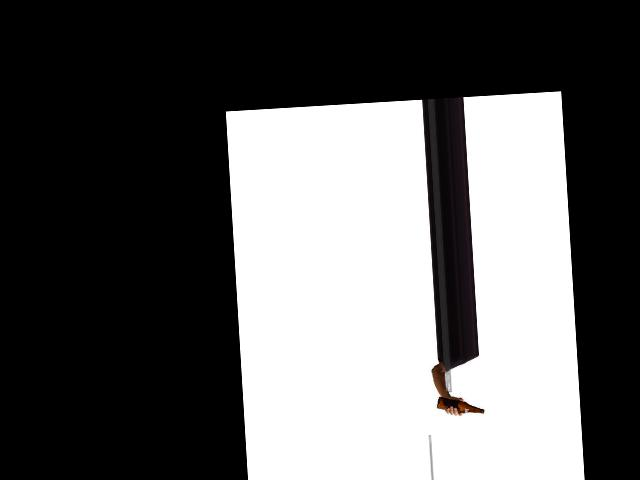beer: (436, 393, 483, 415)
